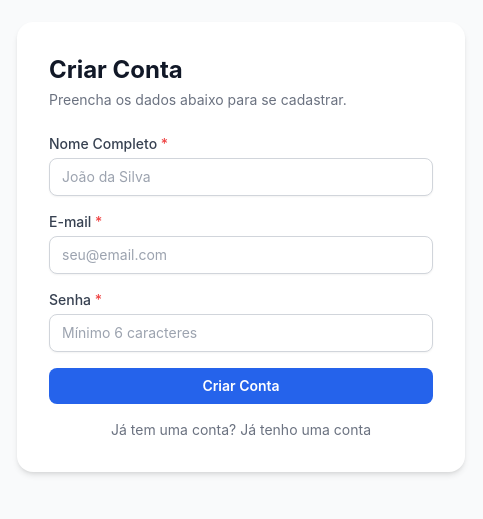
Test: CadastroPage — validação client-side › exibe erro quando nome está vazio
The image size is (483, 519).
Click the button "Criar Conta".
click(241, 386)  # box [49,368,433,404]
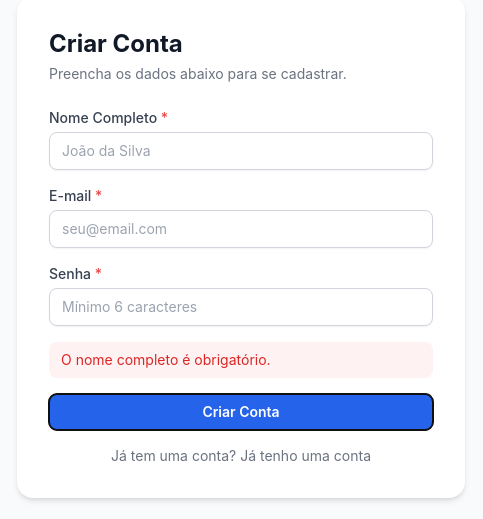
Result: the text "O nome completo é obrigatório." is shown at [49,342,433,378]
